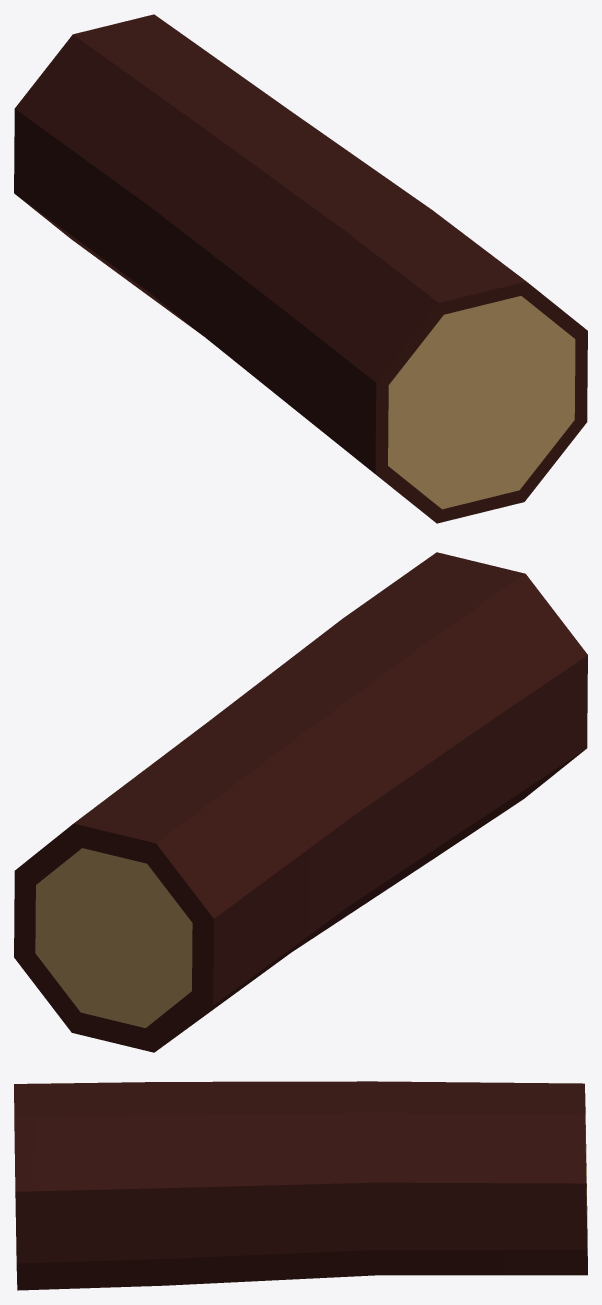
File: SM_Campfire_02_Log_003.fbx
3 renders of one model, top to bottom at view 1: azimuth 30°, elevation 25°; view 2: azimuth 150°, elevation 25°; view 3: azimuth 270°, elevation 25°, orthographic. The views are drawn at different scales.
Visible parts, largest first — view 1: CampfireLog_003; view 2: CampfireLog_003; view 3: CampfireLog_003.
Part boxes in pixels (bbox=[...]): CampfireLog_003: bbox=[14, 14, 587, 523]; CampfireLog_003: bbox=[14, 552, 587, 1052]; CampfireLog_003: bbox=[14, 1081, 587, 1290].
Bounding box in the file's own units: 10.74 × 10.89 × 32.28.
